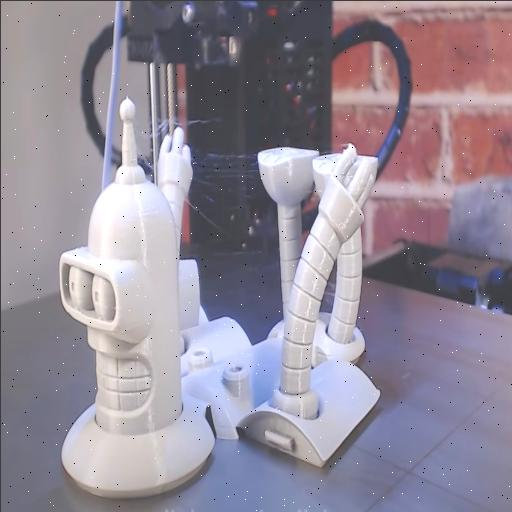stringing: (184, 144, 272, 224), (133, 114, 176, 164)
